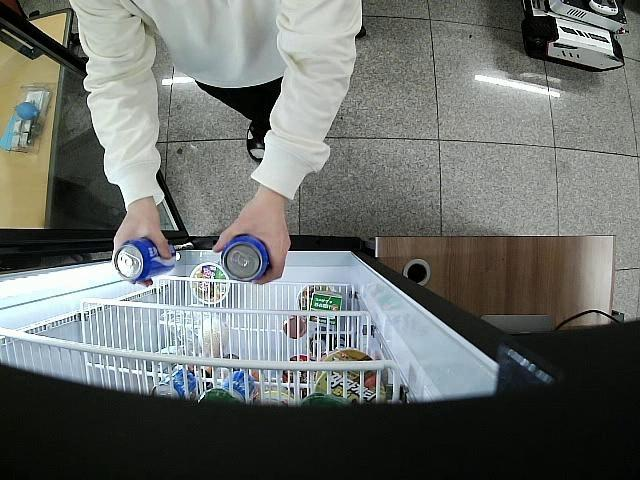13_pocariSweat: (113, 238, 176, 280), (221, 236, 270, 281)
